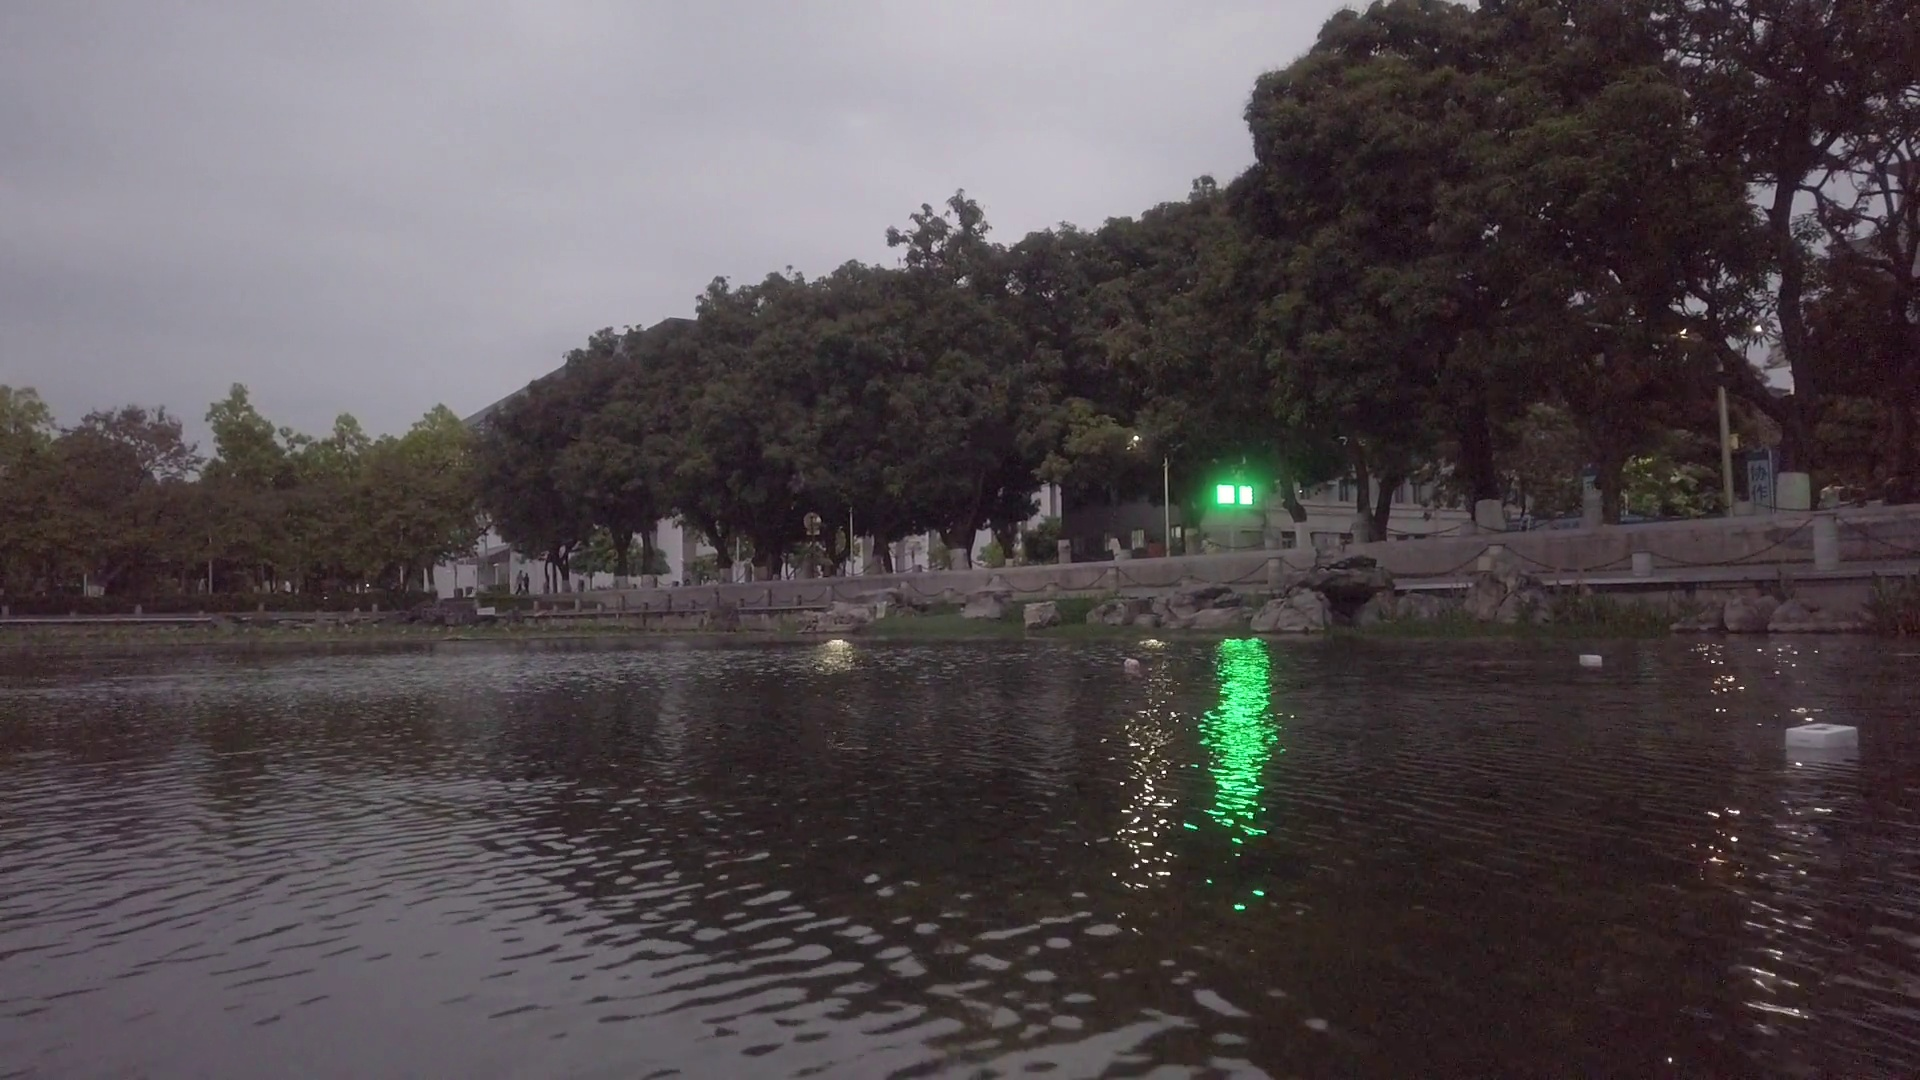bottle: (1124, 657, 1139, 671)
carton: (1785, 719, 1859, 748), (1578, 653, 1604, 666)
